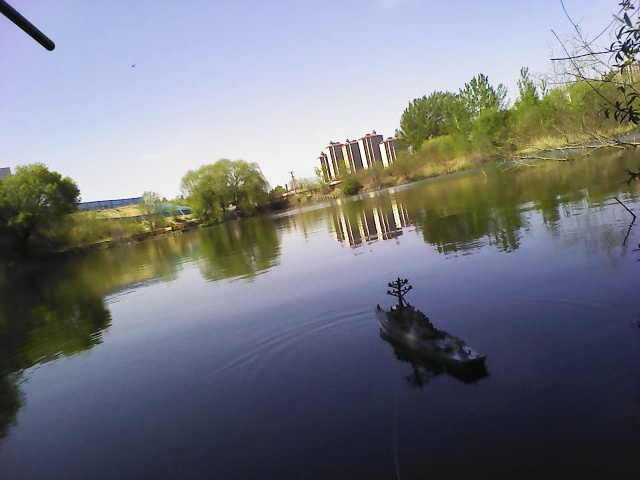warship: (372, 274, 488, 371)
